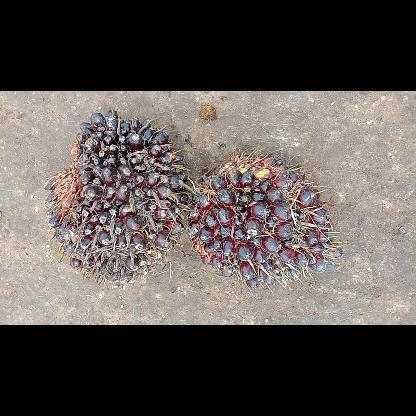TBS mentah: (44, 106, 188, 292), (193, 146, 343, 288)
